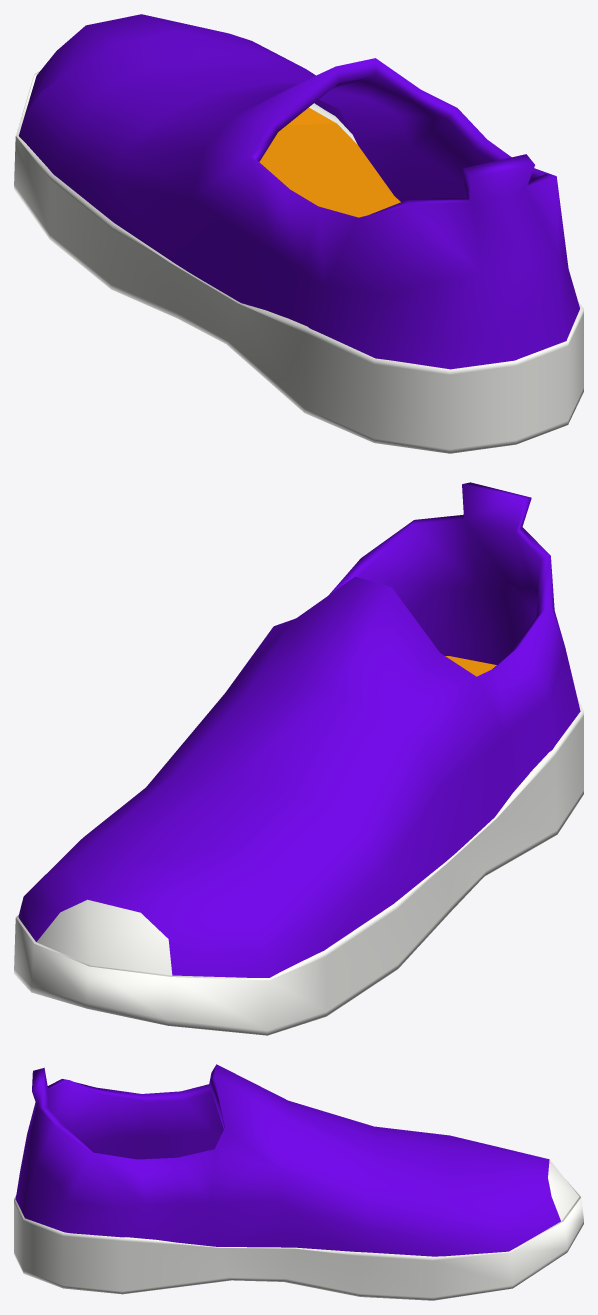
Rendered from shoe_4.fbx.
3 views of the same model, one above another, from view 1: azimuth 30°, elevation 25°; view 2: azimuth 150°, elevation 25°; view 3: azimuth 270°, elevation 25° (orthographic). The views are drawn at different scales.
Parts seen in each view (by area): view 1: Cube; view 2: Cube; view 3: Cube.
Part boxes in pixels (x1,y1,x2,y2): Cube: [14, 14, 583, 453]; Cube: [14, 482, 583, 1035]; Cube: [14, 1064, 583, 1300].
Size of the model in its own units: 182 by 170 by 480.
